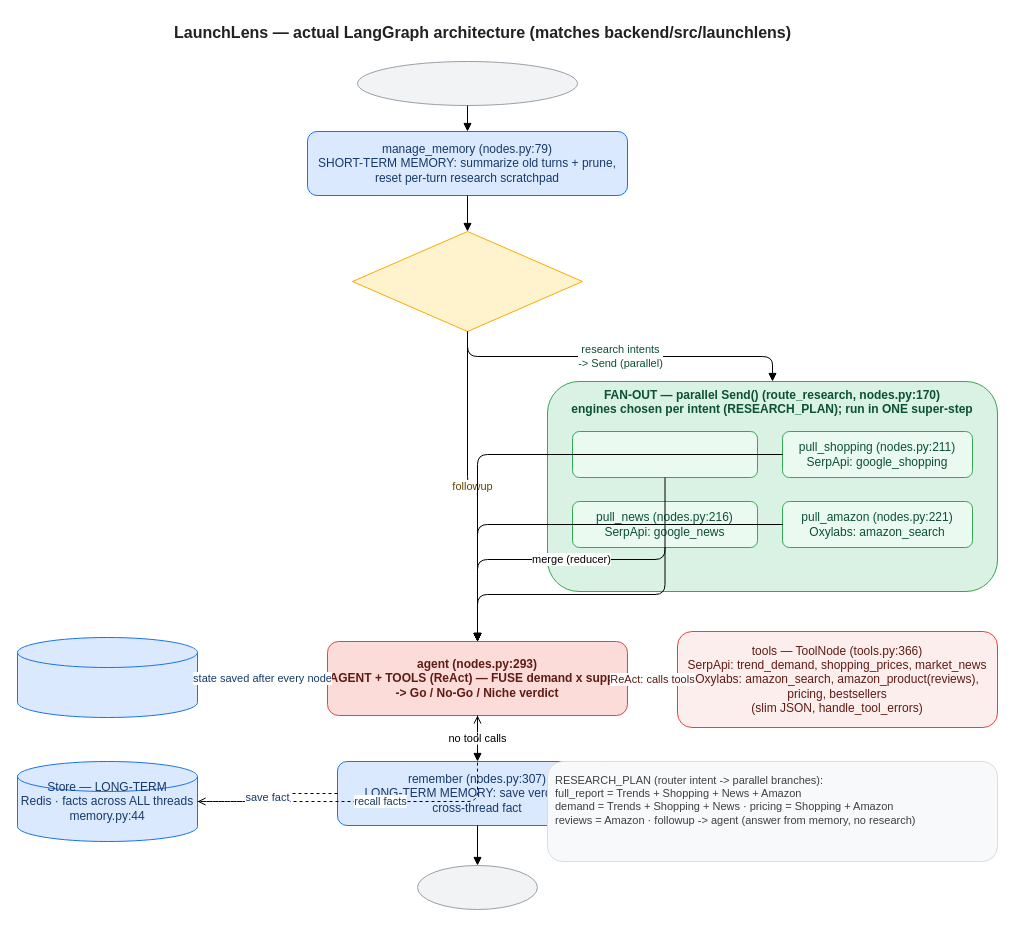
Image size: 1015x927. Some labels were removed from this diagram. Here are the shapes that lost their labels. From the top down, the centre of each, then its label:
[467,83]: START Founder asks a question
[467,281]: router (nodes.py:133) ROUTING: classify intent (structured output)
[665,454]: pull_trends (nodes.py:206) SerpApi: google_trends
[107,677]: Checkpointer — SHORT-TERM Redis (SQLite fallback) memory.py:21
[477,887]: END
